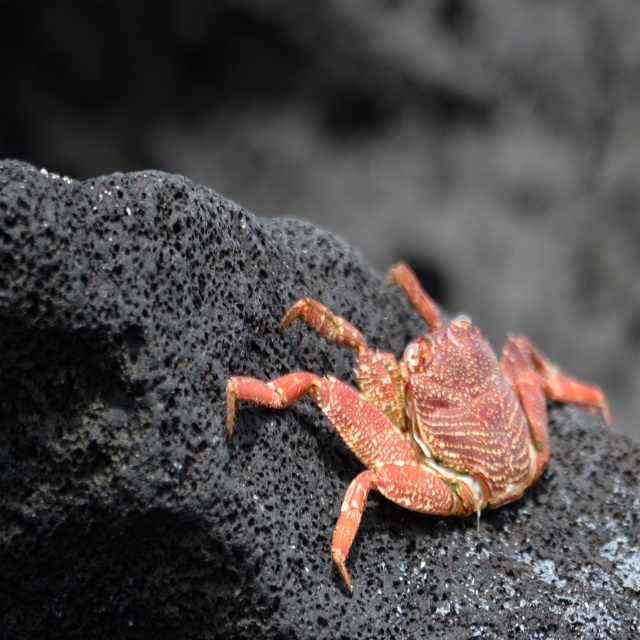Crab: (218, 257, 612, 585)
